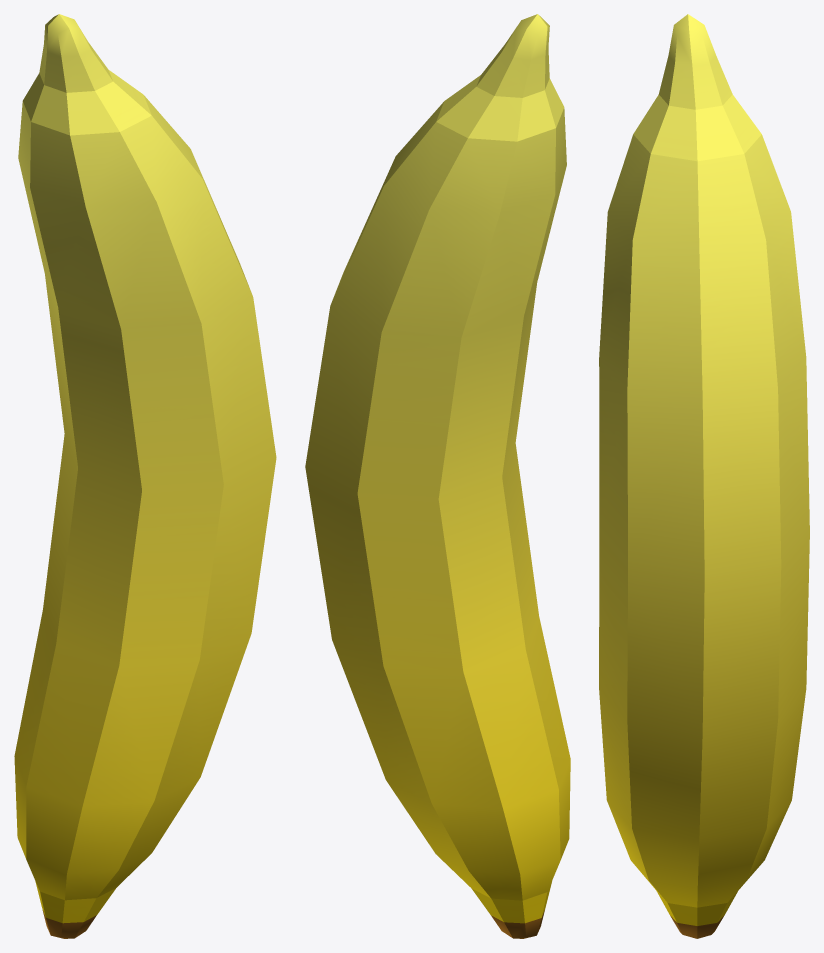
File: banana.fbx
3 views of the same model, side by side, from view 1: azimuth 30°, elevation 25°; view 2: azimuth 150°, elevation 25°; view 3: azimuth 270°, elevation 25° (orthographic).
Parts seen in each view (by area): view 1: banana; view 2: banana; view 3: banana.
Boxes of the visible parts, x1,y1,x2,y2 form: banana: [14, 14, 276, 938]; banana: [305, 14, 570, 938]; banana: [599, 14, 809, 938].
Bounding box in the file's own units: 59.27 × 220 × 45.68.
